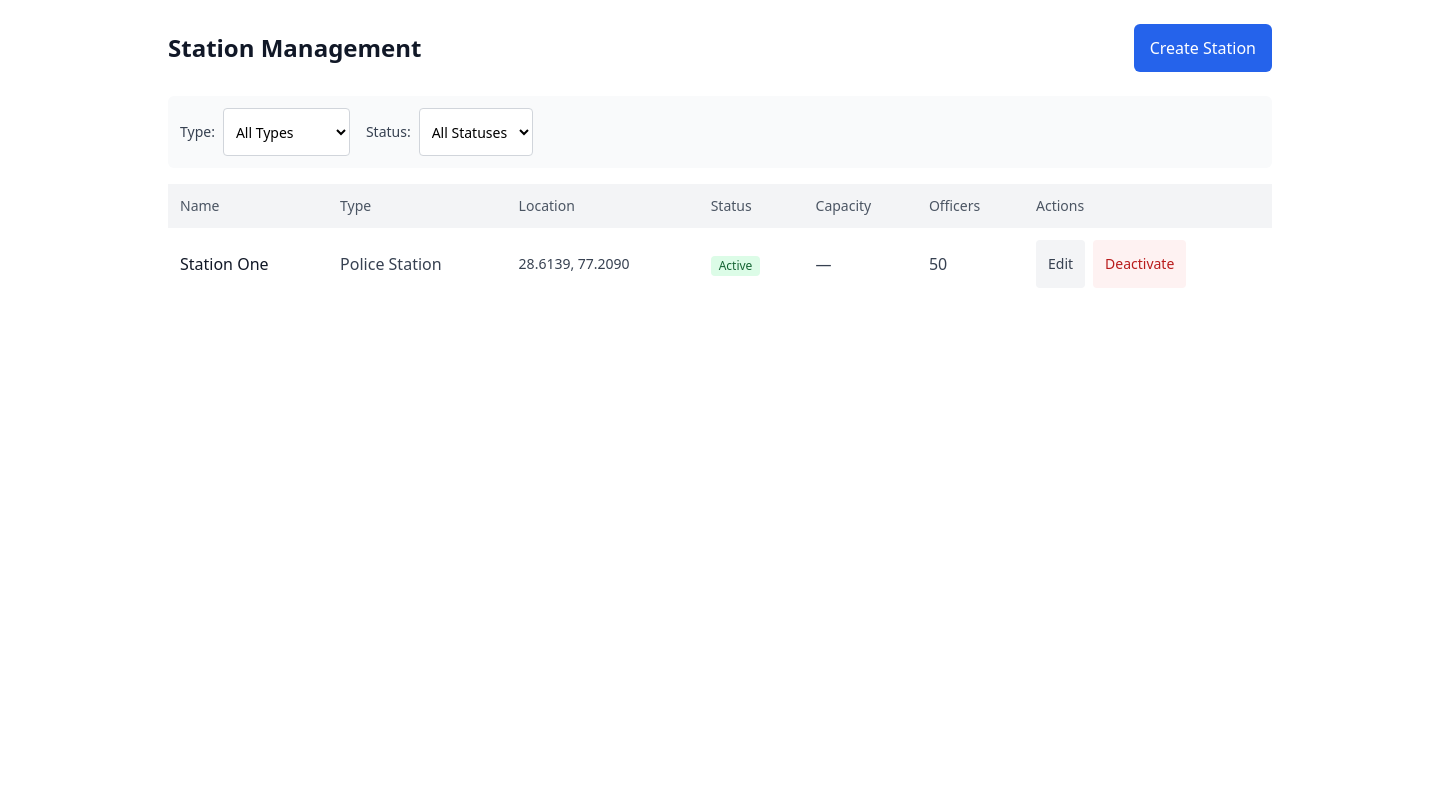
Test: StationManagement › shows deactivation confirmation dialog when Deactivate is clicked
Click the button with test id "deactivate-btn-s1".
click(1140, 264)  # box [1093,240,1186,288]
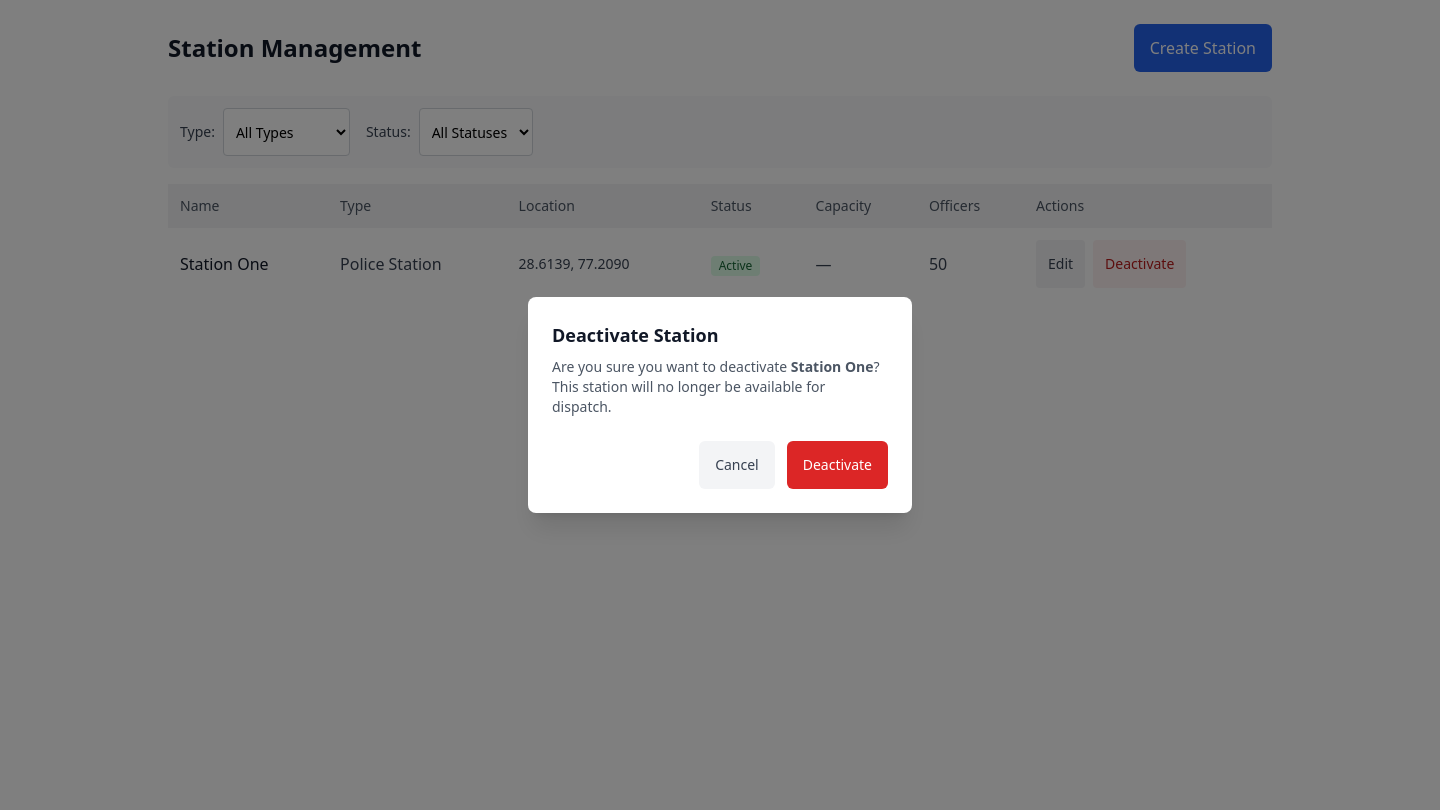
Expected: the dialog with test id "deactivate-dialog" is shown
Expected: the text "Are you sure you want to deactivate" is shown, [552,357,787,376]
